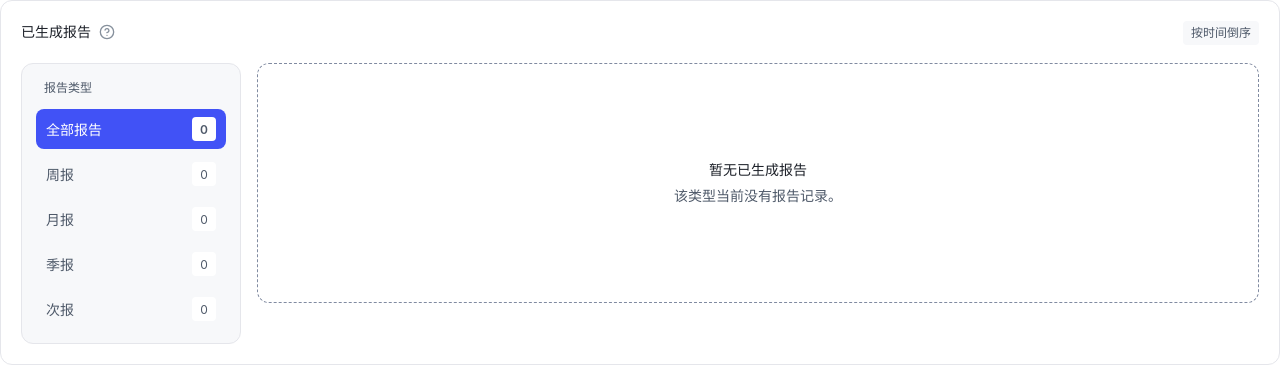
Test: reportListPanel › shows the report-list explanation in a tooltip beside the title
Hover over the button named "报告列表说明": (107, 32) [99,24,115,40]
Wait 300 ms
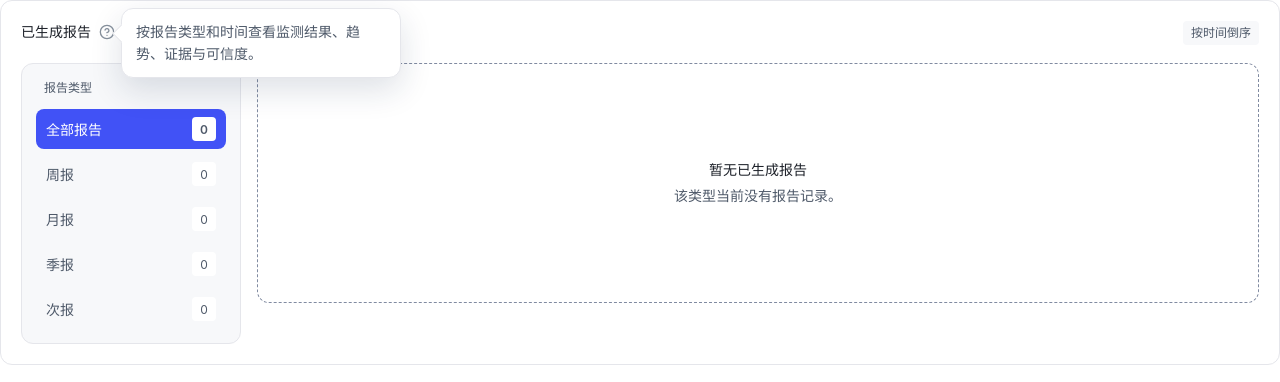
Expected: the text with class "ce-tooltip__content" reads "按报告类型和时间查看监测结果、趋势、证据与可信度。", [136,23,360,62]
